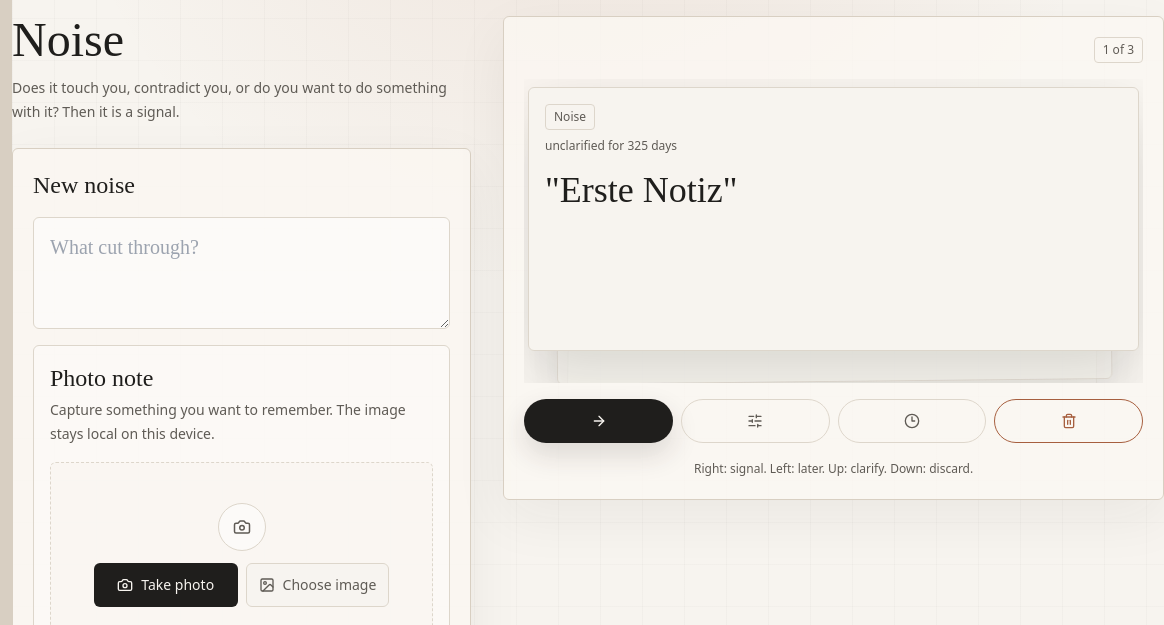
Test case: InboxPage › schließt die Details und setzt den Entwurf zurück, wenn ein anderer Eintrag oben liegt
The image size is (1164, 625).
Expected: the text "\"Erste Notiz\"" is shown, [545, 170, 738, 210]
Click the button named "Clarify" at (755, 421), box [681, 399, 830, 443]
(page scrolled)
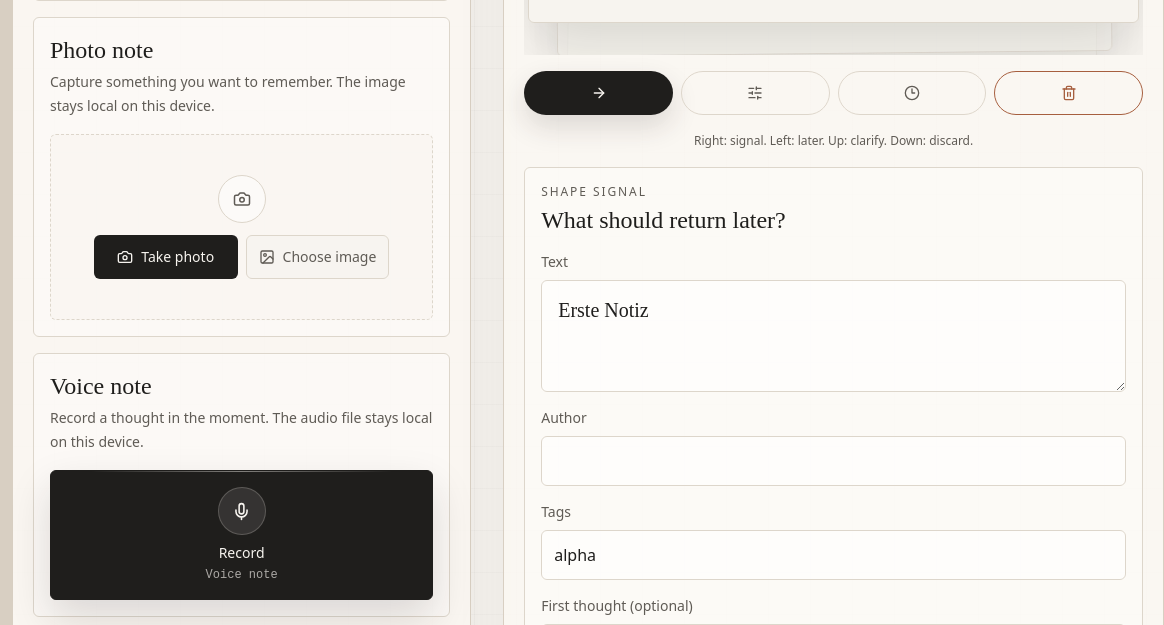
Replace the text in the text box labelled "Text" with "Ungespeichert" at (834, 336), box [541, 280, 1126, 392]
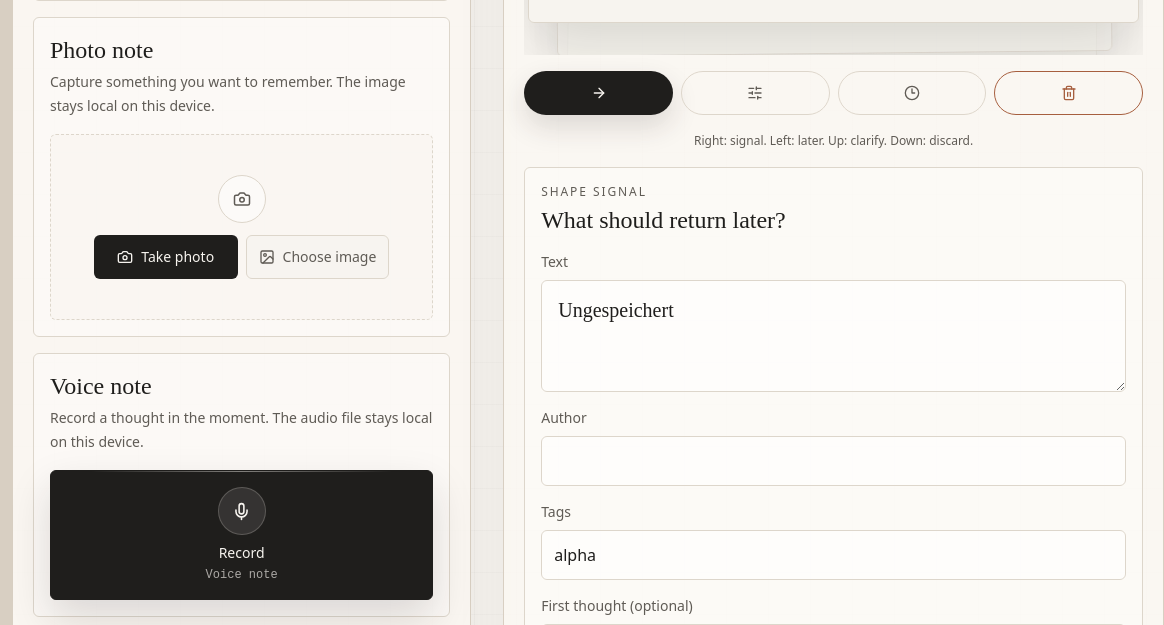
Click the button named "Later" at (912, 93), box [838, 71, 986, 115]
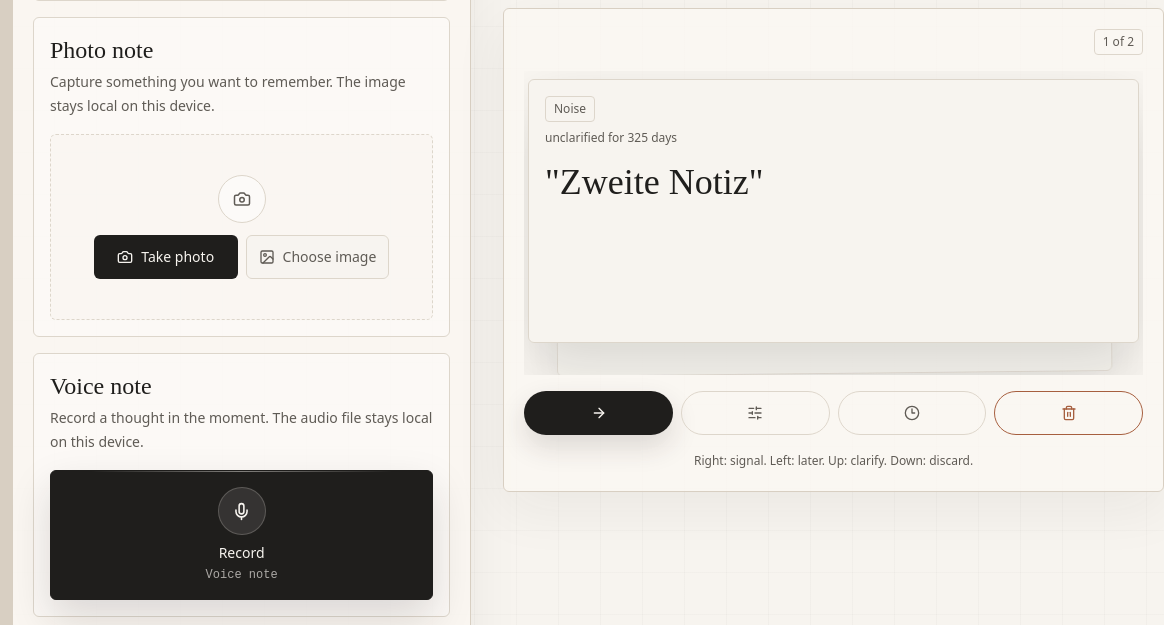
Now the text "\"Zweite Notiz\"" is shown, box [545, 162, 764, 202]
Now the text labelled "Text" is gone
Click the button named "Clarify" at (755, 413), box [681, 391, 830, 435]
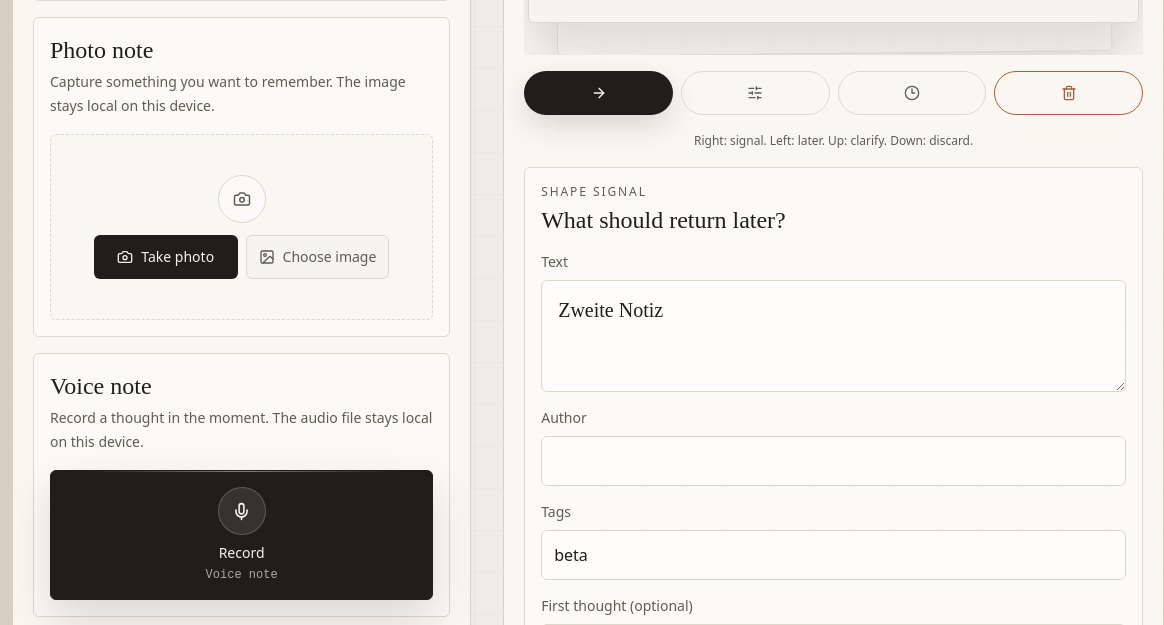
Now the text box labelled "Text" holds "Zweite Notiz", box [541, 280, 1126, 392]
Now the field labelled "Tags" holds "beta", box [541, 530, 1126, 580]
